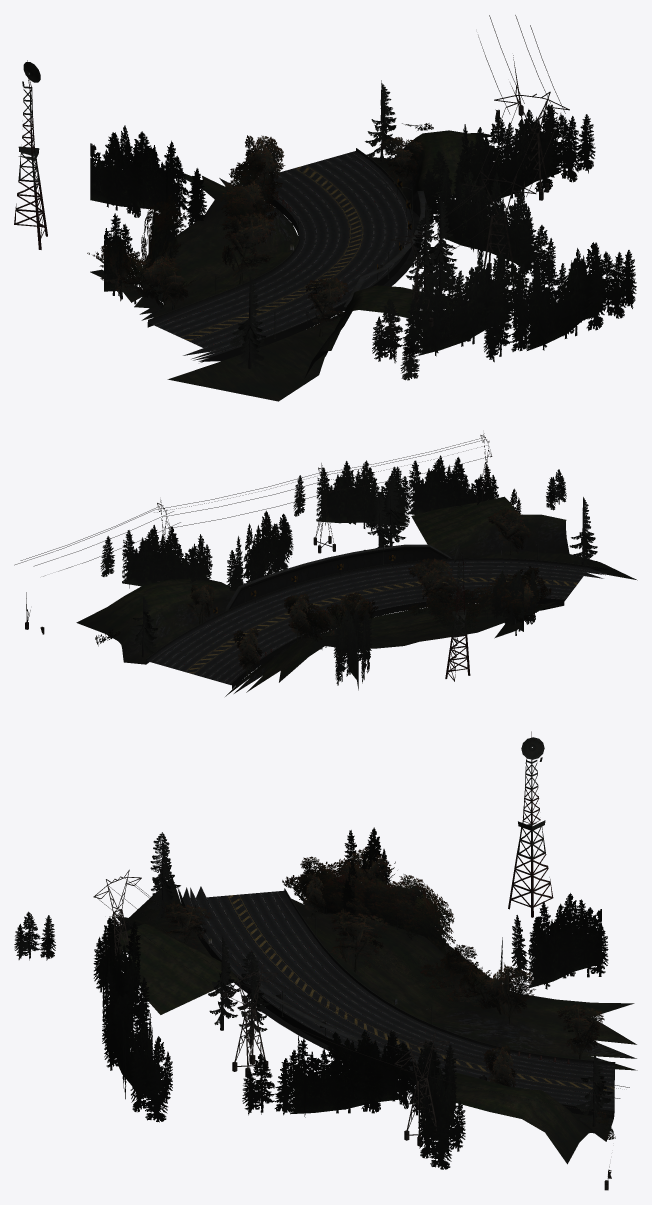
Rendered from cell_8_-9.gltf.
The picture shows the model from 3 angles, top to bottom: view 1: azimuth 30°, elevation 25°; view 2: azimuth 150°, elevation 25°; view 3: azimuth 270°, elevation 25°; orthographic projection. The views are drawn at different scales.
Visible parts, largest first — view 1: cell_8_-9; view 2: cell_8_-9; view 3: cell_8_-9.
Part boxes in pixels (x1=…): cell_8_-9: x1=14, y1=15, x2=636, y2=401; cell_8_-9: x1=14, y1=433, x2=637, y2=696; cell_8_-9: x1=14, y1=731, x2=637, y2=1190.
Size of the model in its own units: 241 by 90.29 by 228.
Materials: 30 (30 with a texture image).
